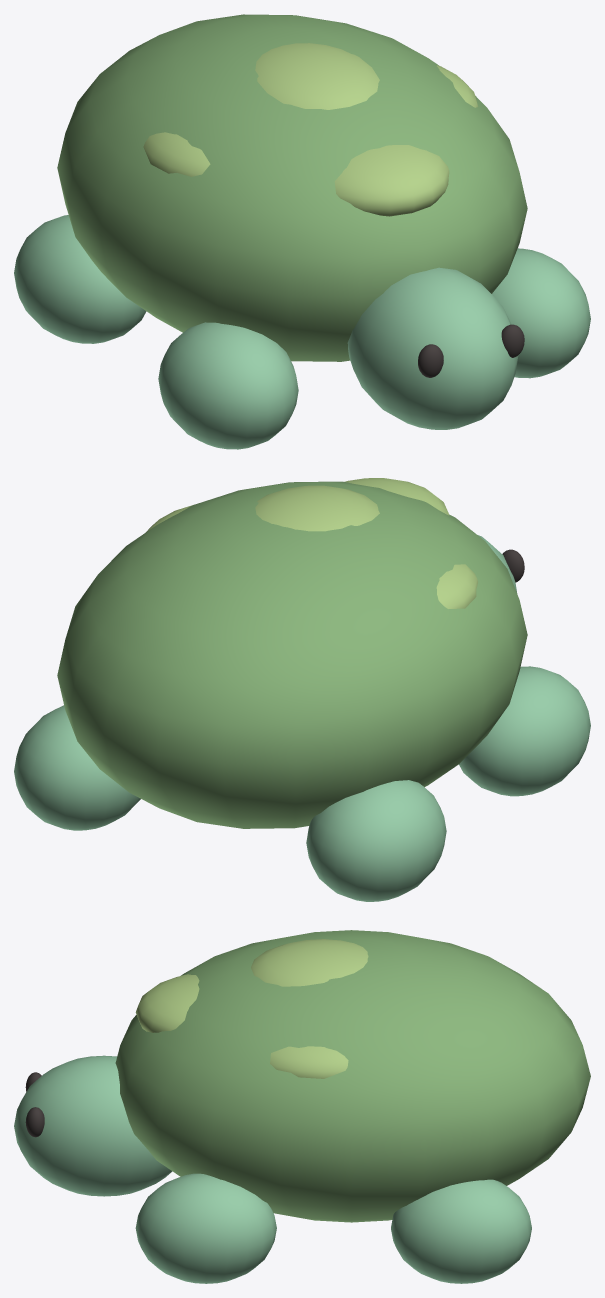
The model's file is tortoise.glb.
3 views of the same model, one above another, from view 1: azimuth 30°, elevation 25°; view 2: azimuth 150°, elevation 25°; view 3: azimuth 270°, elevation 25° (orthographic). The views are drawn at different scales.
Parts seen in each view (by area): view 1: Domed shell, Head.009, Stumpy leg, Stumpy leg.001, Stumpy leg.002, Shell plate, Shell plate.004, Shell plate.001, Eye.018, Eye.019; view 2: Domed shell, Stumpy leg.001, Stumpy leg, Stumpy leg.003, Shell plate, Shell plate.001, Shell plate.004; view 3: Domed shell, Head.009, Stumpy leg.002, Stumpy leg.003, Shell plate, Shell plate.004, Shell plate.002, Eye.019.
Part boxes in pixels (x1=…): Domed shell: x1=57, y1=14, x2=527, y2=361; Head.009: x1=347, y1=267, x2=518, y2=429; Stumpy leg: x1=158, y1=322, x2=298, y2=449; Stumpy leg.001: x1=14, y1=215, x2=146, y2=343; Stumpy leg.002: x1=492, y1=248, x2=590, y2=378; Shell plate: x1=255, y1=43, x2=379, y2=109; Shell plate.004: x1=334, y1=145, x2=449, y2=216; Shell plate.001: x1=143, y1=132, x2=210, y2=176; Eye.018: x1=418, y1=344, x2=443, y2=377; Eye.019: x1=501, y1=324, x2=524, y2=357; Domed shell: x1=57, y1=481, x2=527, y2=828; Stumpy leg.001: x1=306, y1=780, x2=446, y2=901; Stumpy leg: x1=459, y1=666, x2=590, y2=796; Stumpy leg.003: x1=14, y1=705, x2=140, y2=830; Shell plate: x1=255, y1=485, x2=379, y2=531; Shell plate.001: x1=436, y1=564, x2=477, y2=608; Shell plate.004: x1=344, y1=478, x2=449, y2=515; Domed shell: x1=115, y1=930, x2=590, y2=1222; Head.009: x1=14, y1=1055, x2=172, y2=1196; Stumpy leg.002: x1=135, y1=1173, x2=276, y2=1283; Stumpy leg.003: x1=391, y1=1179, x2=531, y2=1283; Shell plate: x1=251, y1=939, x2=368, y2=986; Shell plate.004: x1=135, y1=974, x2=199, y2=1032; Shell plate.002: x1=270, y1=1046, x2=348, y2=1078; Eye.019: x1=25, y1=1107, x2=44, y2=1137.
Size of the model in its own units: 1.06 by 0.74 by 1.47.
